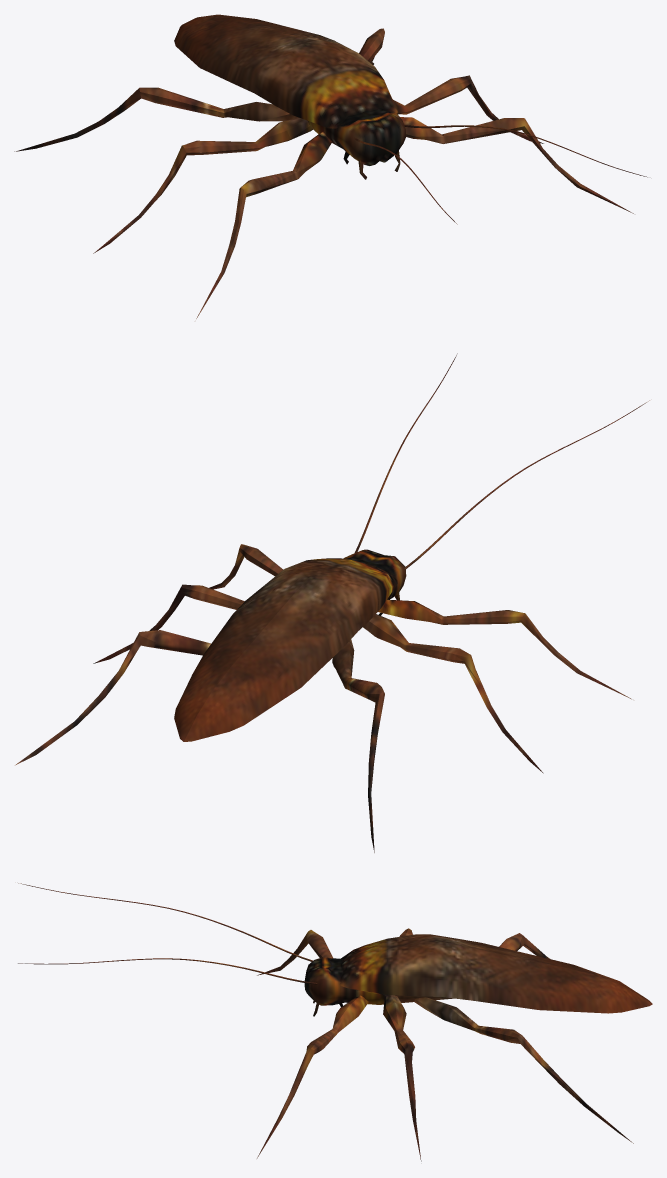
The model's file is Cockroach.FBX.
3 renders of one model, top to bottom at view 1: azimuth 30°, elevation 25°; view 2: azimuth 150°, elevation 25°; view 3: azimuth 270°, elevation 25°, orthographic. The views are drawn at different scales.
Parts seen in each view (by area): view 1: cadnav.com; view 2: cadnav.com; view 3: cadnav.com.
Boxes of the visible parts, x1=… form: cadnav.com: x1=14, y1=14, x2=647, y2=318; cadnav.com: x1=15, y1=353, x2=649, y2=852; cadnav.com: x1=18, y1=883, x2=652, y2=1161.
Bounding box in the file's own units: 0.1972 × 0.0712 × 0.2812.
1 material, 1 textured.
